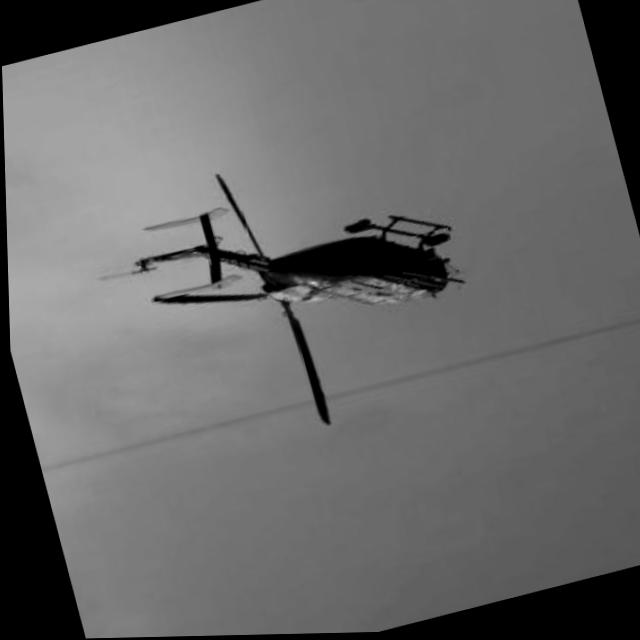helikopter: (90, 118, 515, 468)
